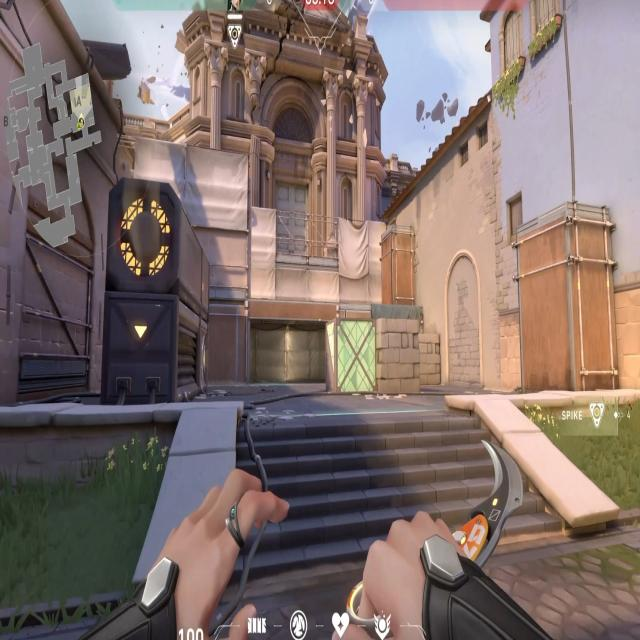A_Heaven_Box: (380, 224, 417, 304)
A_Heaven_Wall: (132, 144, 250, 317)
A_Hell: (248, 299, 340, 389)
A_Site_Box: (325, 318, 423, 394)
